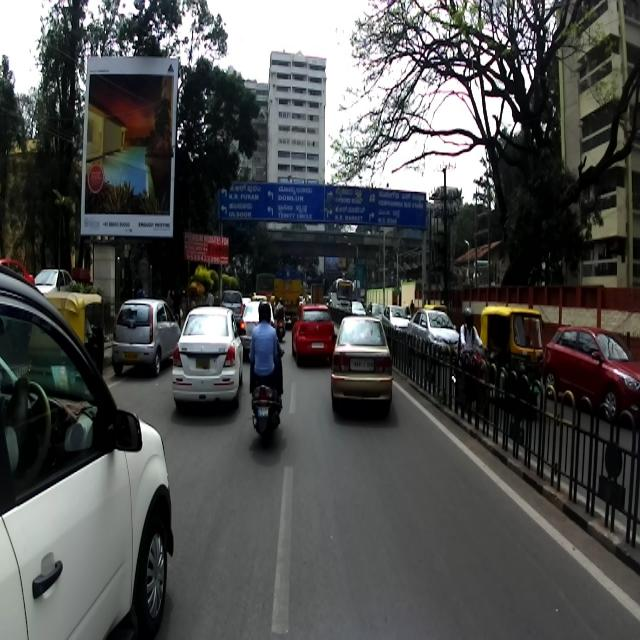autorickshaw: (479, 306, 544, 420), (44, 291, 106, 375)
car: (0, 269, 174, 639), (544, 325, 640, 424), (171, 305, 244, 411), (330, 315, 392, 417), (111, 299, 181, 374)
motorcycle: (450, 347, 488, 417)
scooter: (249, 352, 283, 444)
